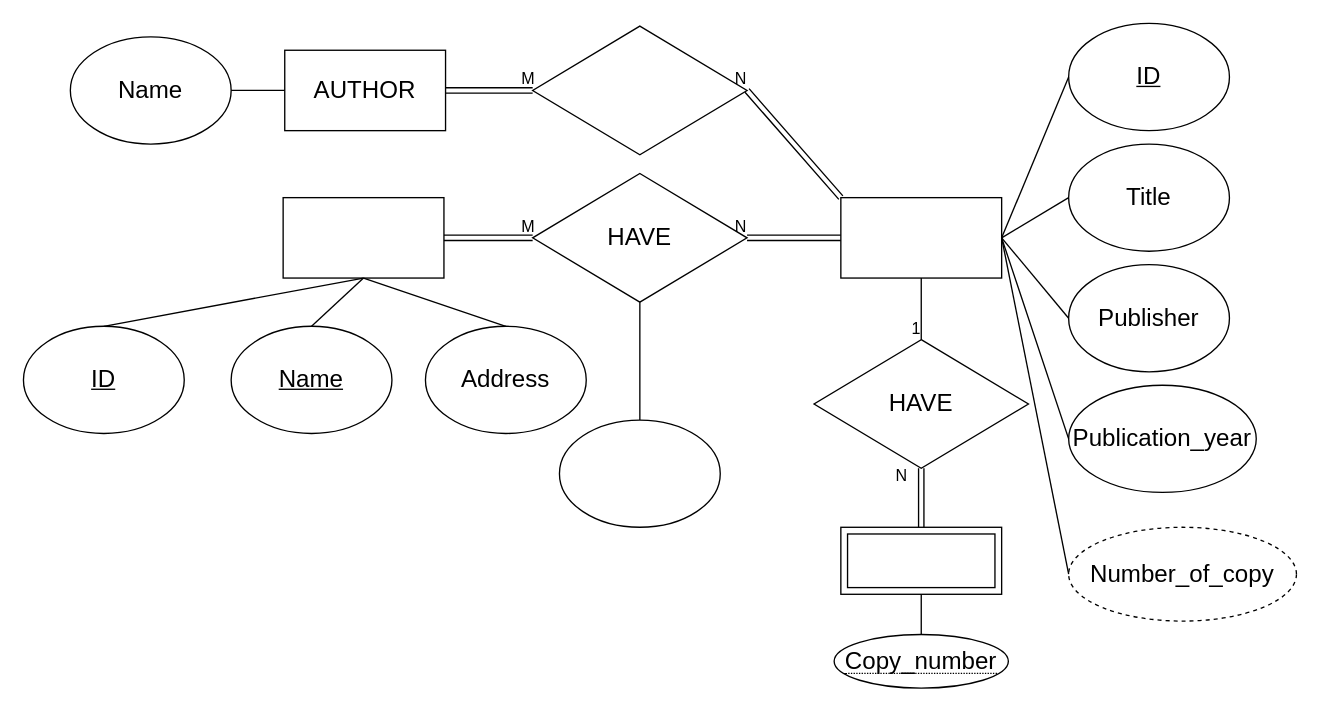
The diagram is 1320 pixels wide and 712 high, and some of its shapes have lost their labels. The centre of each missing label's shape, as x and y in pixels:
"Availability" belongs at [639,473].
"BOOK" belongs at [921,237].
"BRANCH" belongs at [363,237].
"COPY" belongs at [921,560].
"WRITE" belongs at [639,90].
